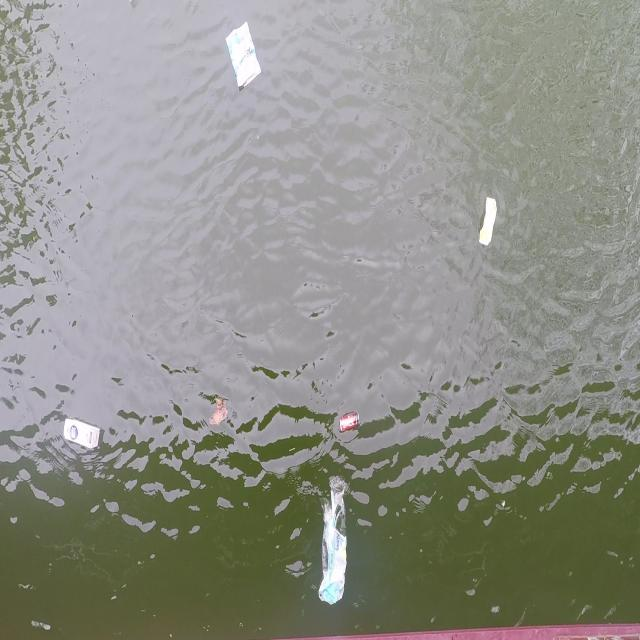Autre plastique: (224, 15, 264, 95)
Non plastique: (58, 415, 101, 452), (475, 192, 501, 252), (337, 408, 360, 436)
Sac plastique: (313, 479, 353, 614)
